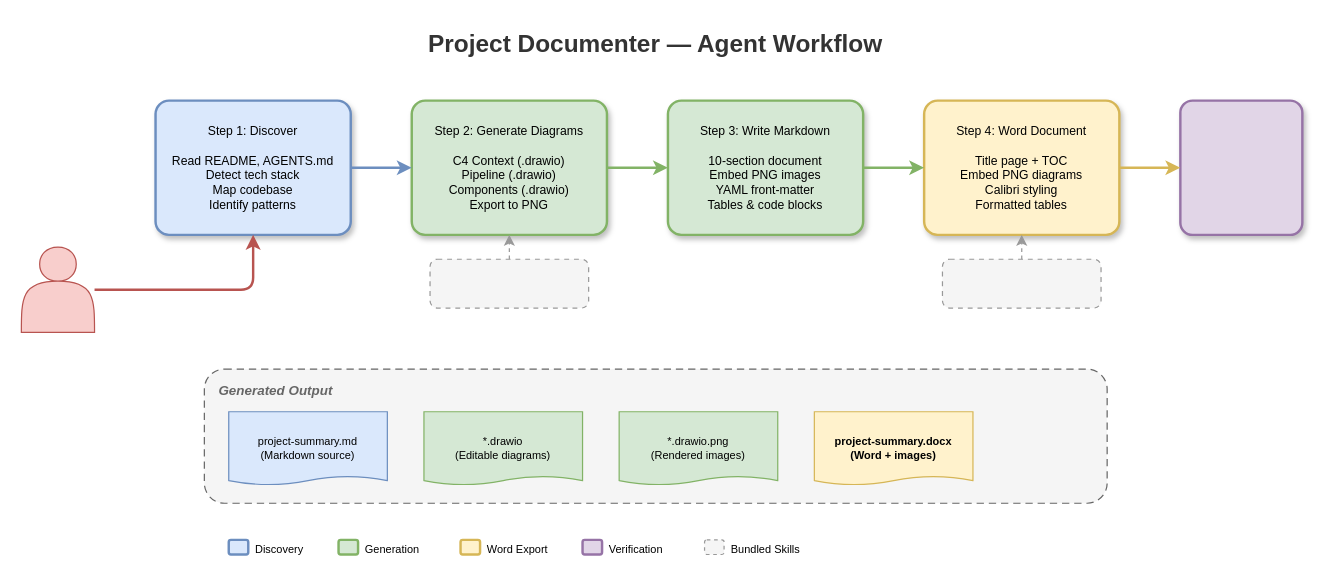
This 1332x580 diagram has some shape labels left out. The shapes that lost their labels are listed below. From the top down, each one's centre as x and y in pixels, then its label:
the point at 1242,169: Step 5: Verify Accuracy check No secrets Report files
the point at 57,289: User
the point at 509,283: drawio skill drawio-to-png.mjs
the point at 1021,283: md-to-docx skill md-to-docx.mjs
